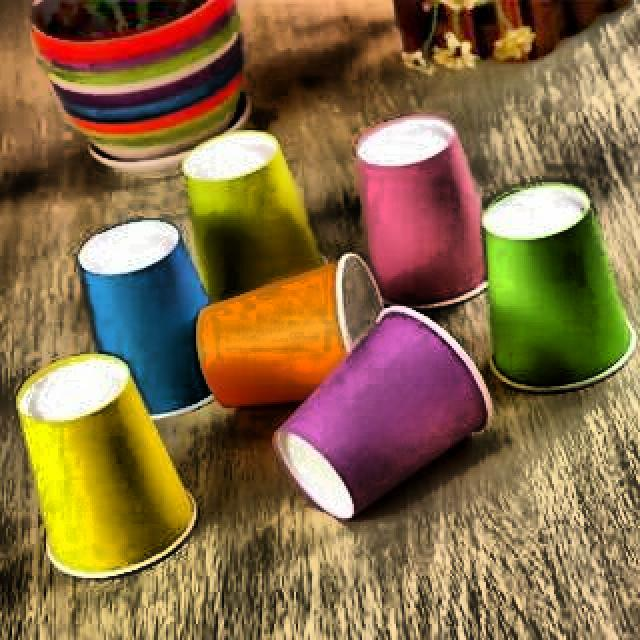Cup: (265, 301, 504, 532), (10, 347, 220, 604), (170, 119, 345, 364), (193, 262, 410, 443), (58, 216, 224, 429), (464, 182, 640, 378), (347, 99, 497, 317)
